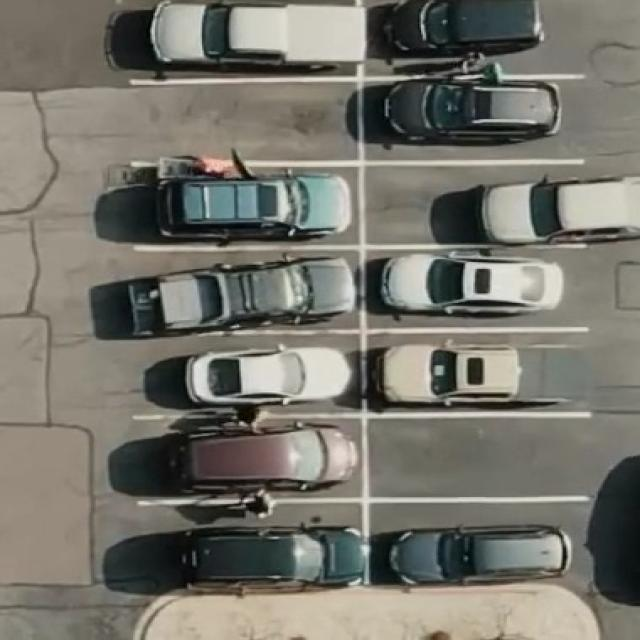space-empty: (124, 72, 358, 166), (364, 412, 596, 500)
space-occupied: (106, 498, 371, 595), (359, 158, 633, 248), (109, 242, 364, 337), (123, 411, 367, 501), (362, 326, 596, 416), (122, 160, 360, 246), (115, 330, 364, 412), (357, 71, 578, 161), (367, 497, 583, 588), (121, 1, 364, 80), (362, 245, 586, 328), (366, 0, 546, 68)
